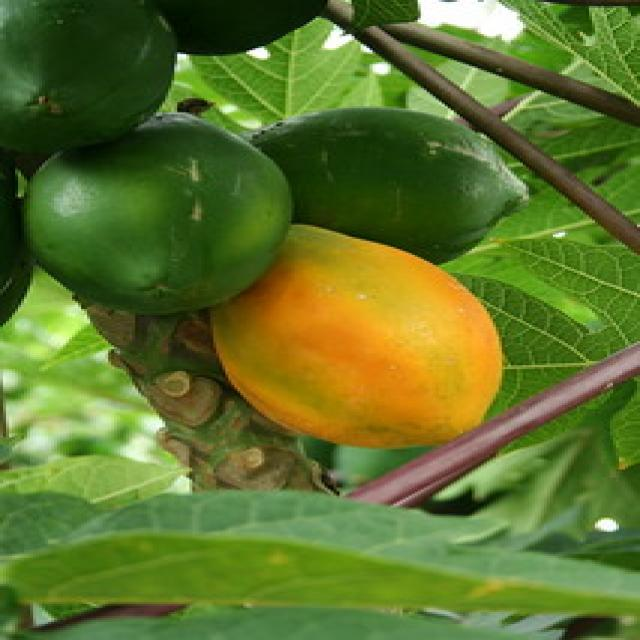Pepaya rippen: (225, 227, 535, 455)
Pepaya unrippen: (3, 128, 279, 305), (270, 104, 538, 255)
